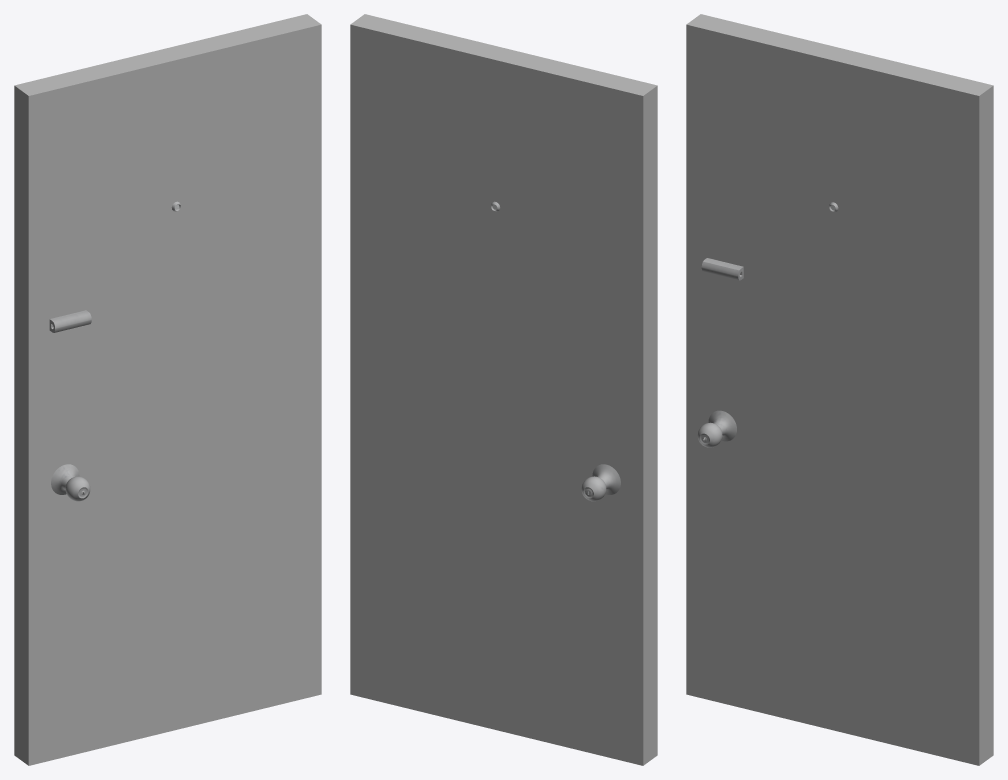
Rendered from Door.fbx.
3 views of the same model, side by side, from view 1: azimuth 30°, elevation 25°; view 2: azimuth 150°, elevation 25°; view 3: azimuth 330°, elevation 25° (orthographic).
Parts seen in each view (by area): view 1: Door.003; view 2: Door.003; view 3: Door.003.
Boxes of the visible parts, x1=… form: Door.003: x1=14, y1=14, x2=321, y2=765; Door.003: x1=350, y1=14, x2=657, y2=765; Door.003: x1=686, y1=14, x2=993, y2=765.
Size of the model in its own units: 1.17 by 0.3587 by 2.55.
